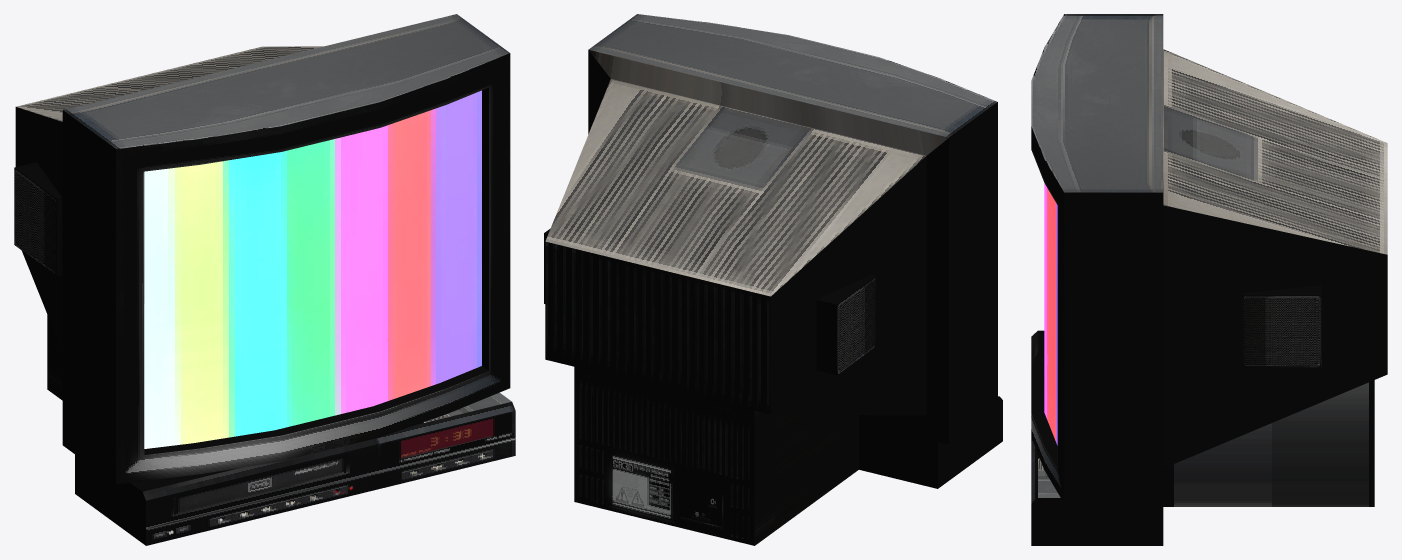
Rendered from crt-tv.glb.
3 views of the same model, side by side, from view 1: azimuth 30°, elevation 25°; view 2: azimuth 150°, elevation 25°; view 3: azimuth 270°, elevation 25° (orthographic). The views are drawn at different scales.
Visible parts, largest first — view 1: Cube; view 2: Cube; view 3: Cube.
Part boxes in pixels (left/top/right/bottom): Cube: left=14, top=14, right=515, bottom=545; Cube: left=544, top=14, right=1002, bottom=545; Cube: left=1031, top=14, right=1387, bottom=545.
Bounding box in the file's own units: 3.2 × 3 × 2.7.
2 materials, 1 textured.
